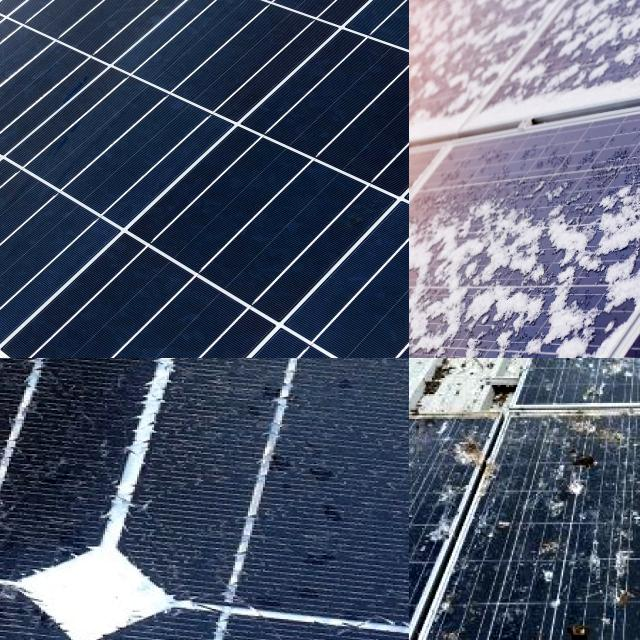bird: (531, 438, 611, 506), (454, 422, 506, 491), (555, 585, 594, 640), (409, 511, 434, 577)
crack: (0, 0, 409, 358)
panel: (490, 204, 594, 316), (451, 40, 540, 120), (409, 210, 496, 285), (596, 162, 640, 307), (409, 20, 460, 120), (409, 283, 469, 358), (409, 42, 451, 135), (553, 46, 640, 88), (409, 299, 464, 358), (409, 240, 462, 294), (487, 331, 592, 358), (457, 0, 549, 27), (409, 303, 451, 358), (567, 0, 637, 28)
shadow: (0, 358, 256, 475)
